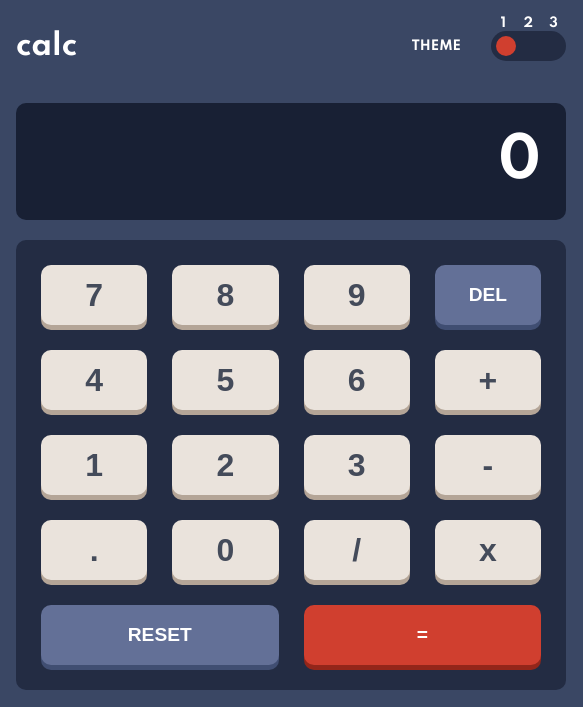
Simple App integration tests › Single operation tests › 8 - 7 = 1
Click the button "8".
click(225, 295)  # box [172,265,279,325]
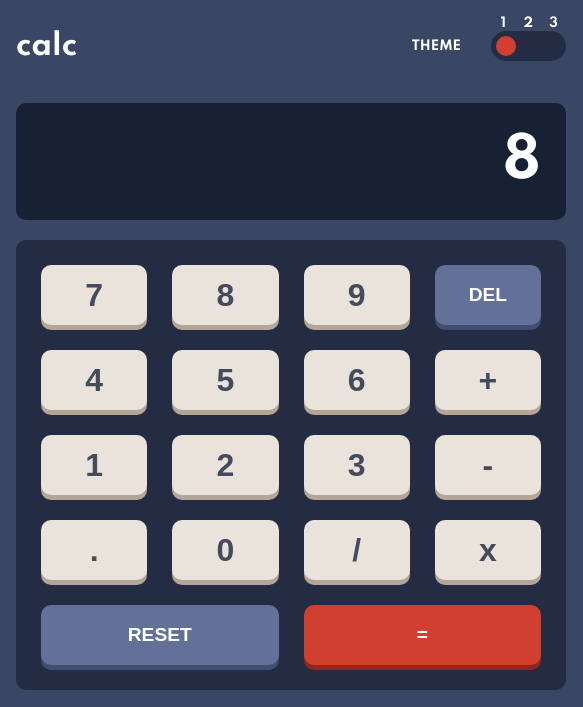
Result: the text "8" is shown at [503,129,541,194]
Click the button with id "subtract".
click(488, 465)  # box [435,435,541,495]
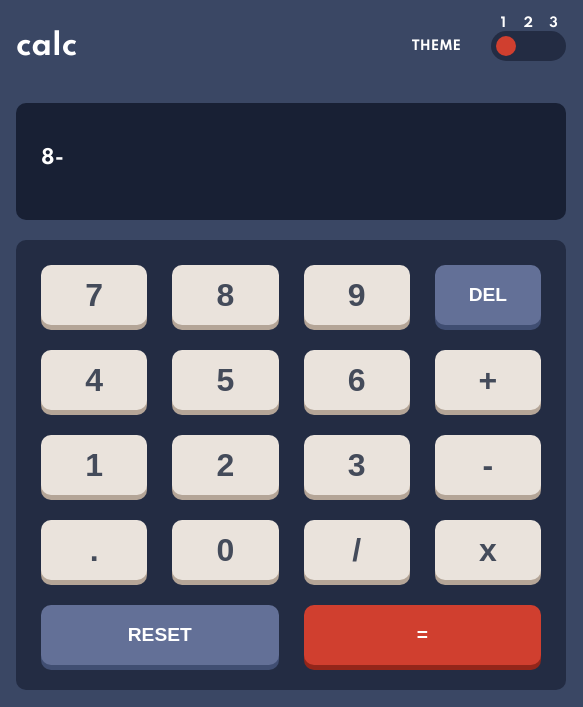
Click the button "7".
click(94, 295)  # box [41,265,147,325]
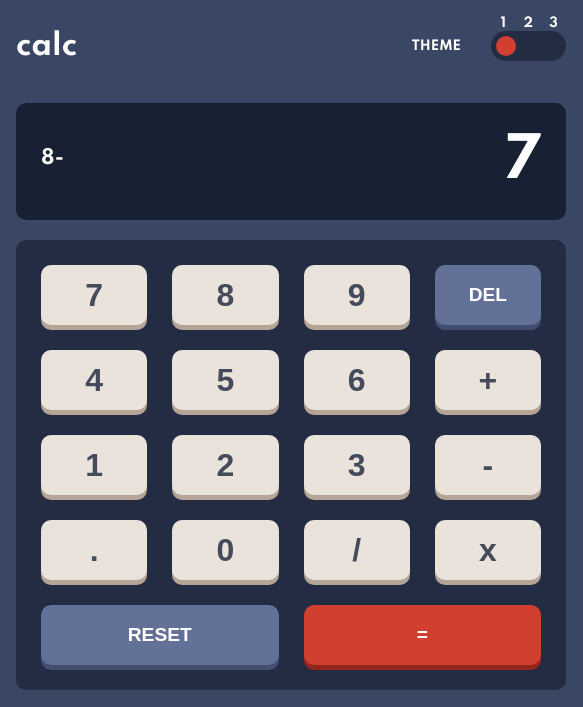
Result: the text "7" is shown at [505,129,541,194]
Click the button with id "equals".
click(422, 635)  # box [304,605,541,665]
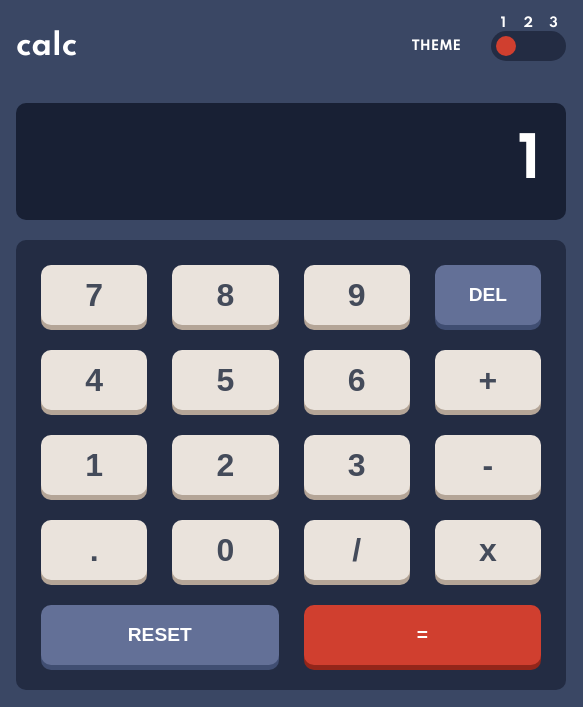
Result: the text "1" is shown at [518,129,541,194]
